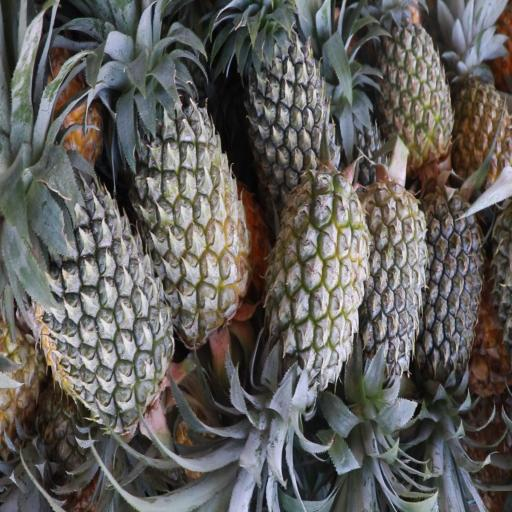------------------------------: (268, 170, 365, 382), (378, 16, 454, 172), (451, 59, 512, 188)
